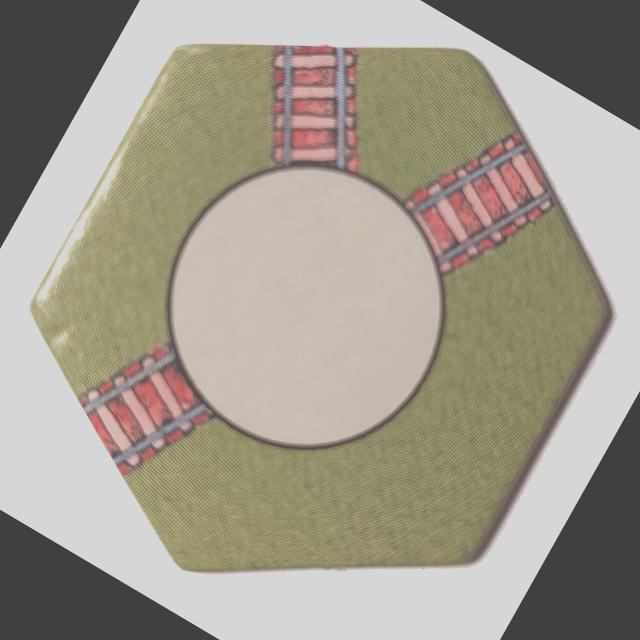14_1: (28, 41, 616, 562)
